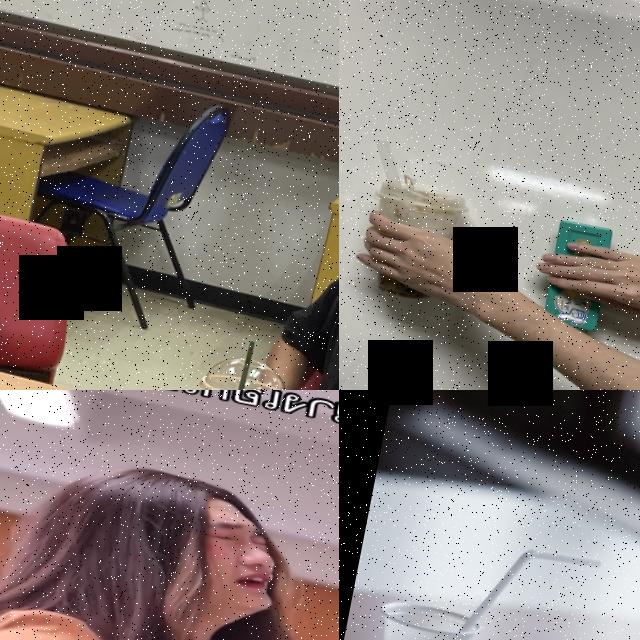cup: (356, 179, 474, 308), (355, 595, 484, 640), (172, 350, 300, 390)
